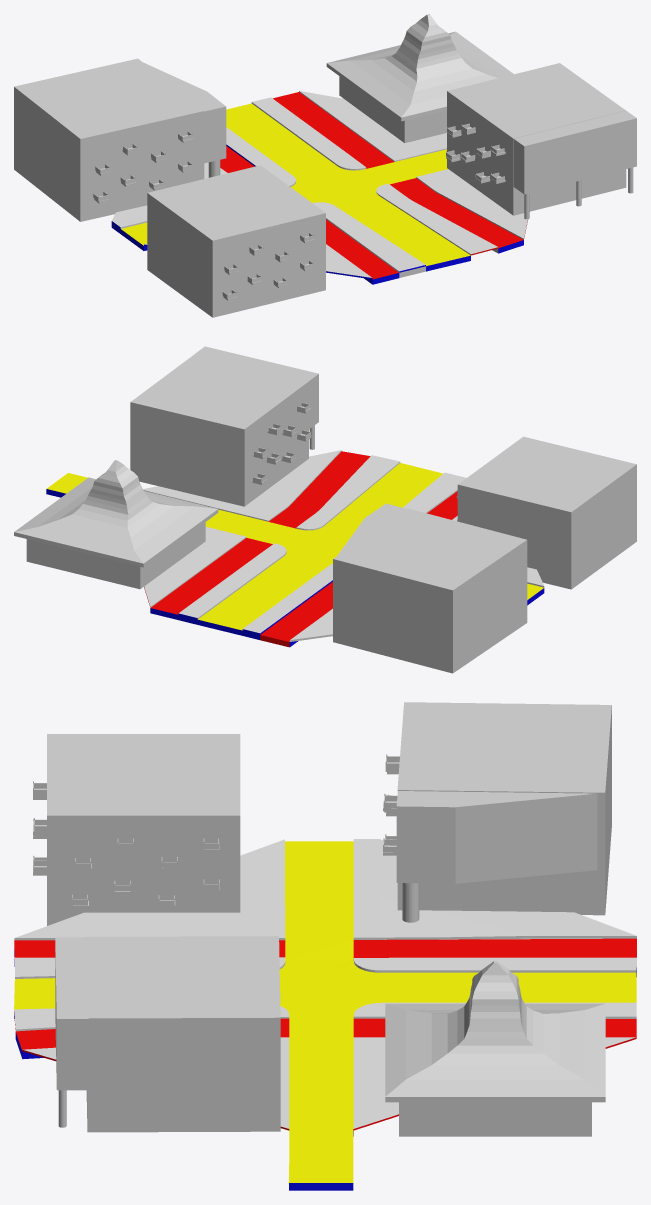
File: Pws Omgeving 8.fbx
3 renders of one model, top to bottom at view 1: azimuth 30°, elevation 25°; view 2: azimuth 150°, elevation 25°; view 3: azimuth 270°, elevation 25°, orthographic. The views are drawn at different scales.
Parts seen in each view (by area): view 1: Cube.020; view 2: Cube.020; view 3: Cube.020.
Boxes of the visible parts, x1,y1,x2,y2 form: Cube.020: (14, 14, 636, 317); Cube.020: (14, 346, 636, 673); Cube.020: (14, 702, 636, 1190).
Bounding box in the file's own units: 10787 × 2122 × 7931.
